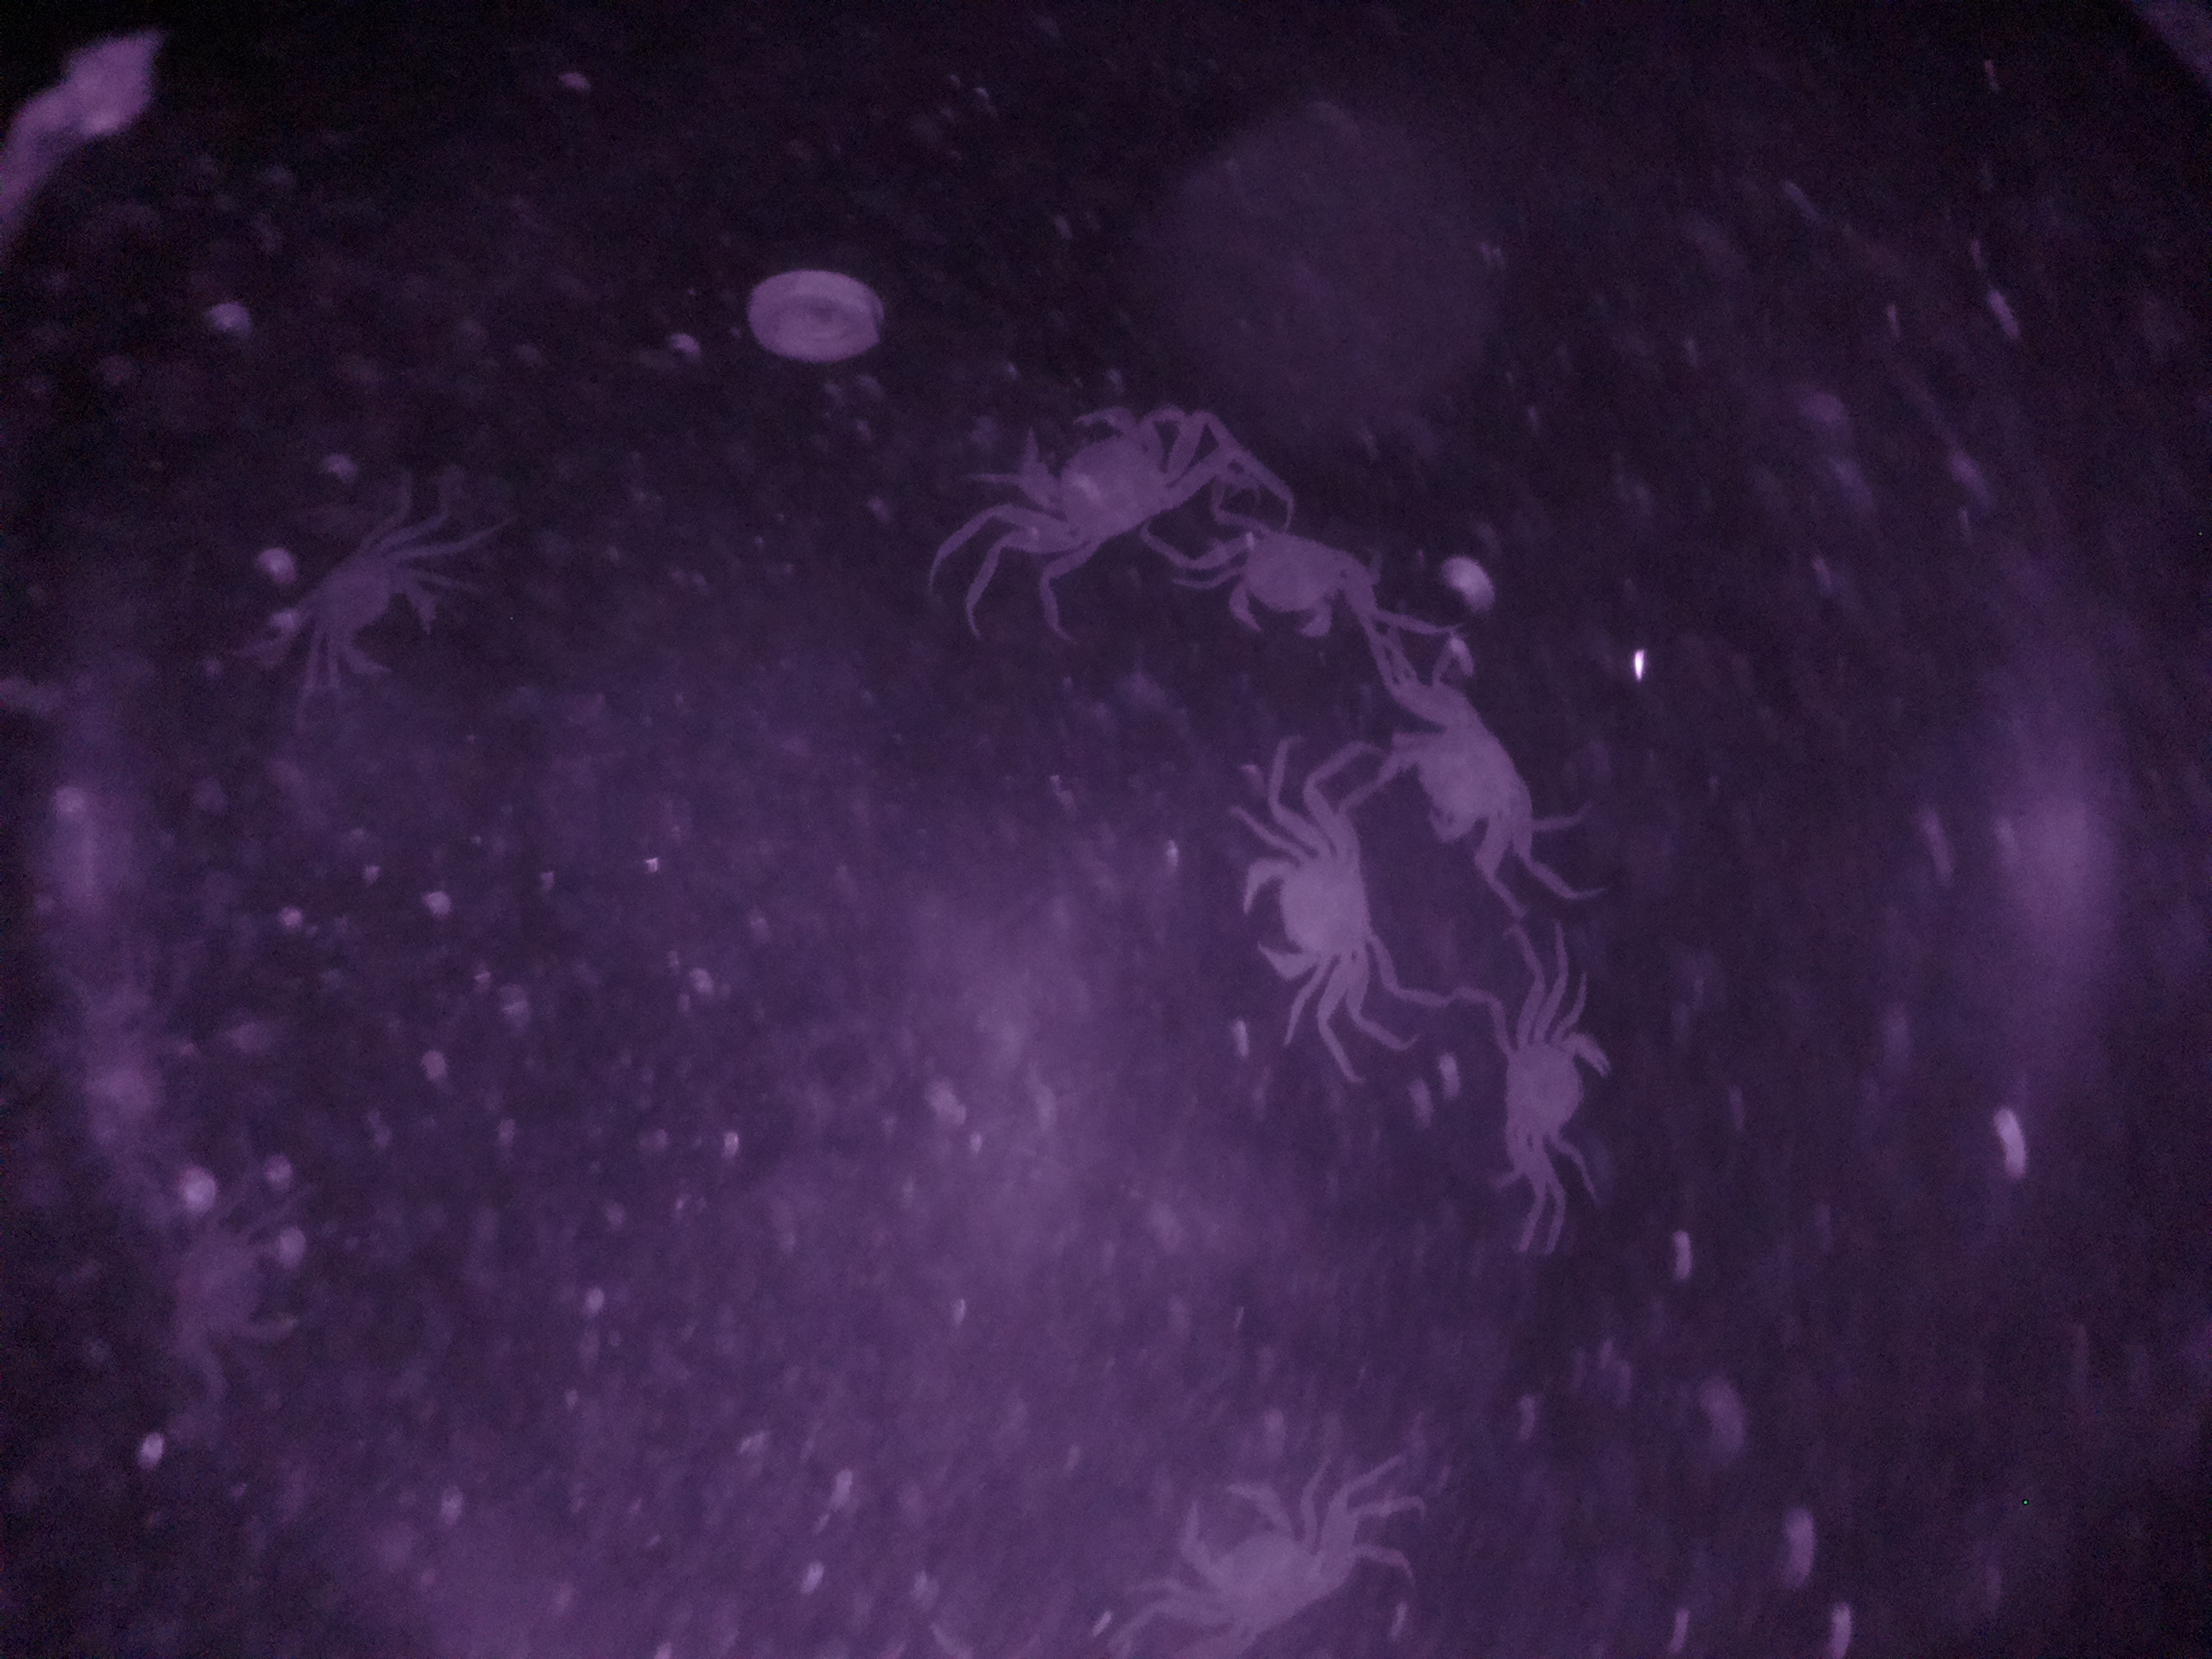Crab: (1233, 814, 1416, 1026), (982, 385, 1188, 570), (1381, 692, 1564, 856), (1470, 997, 1620, 1192), (1195, 525, 1383, 671)
